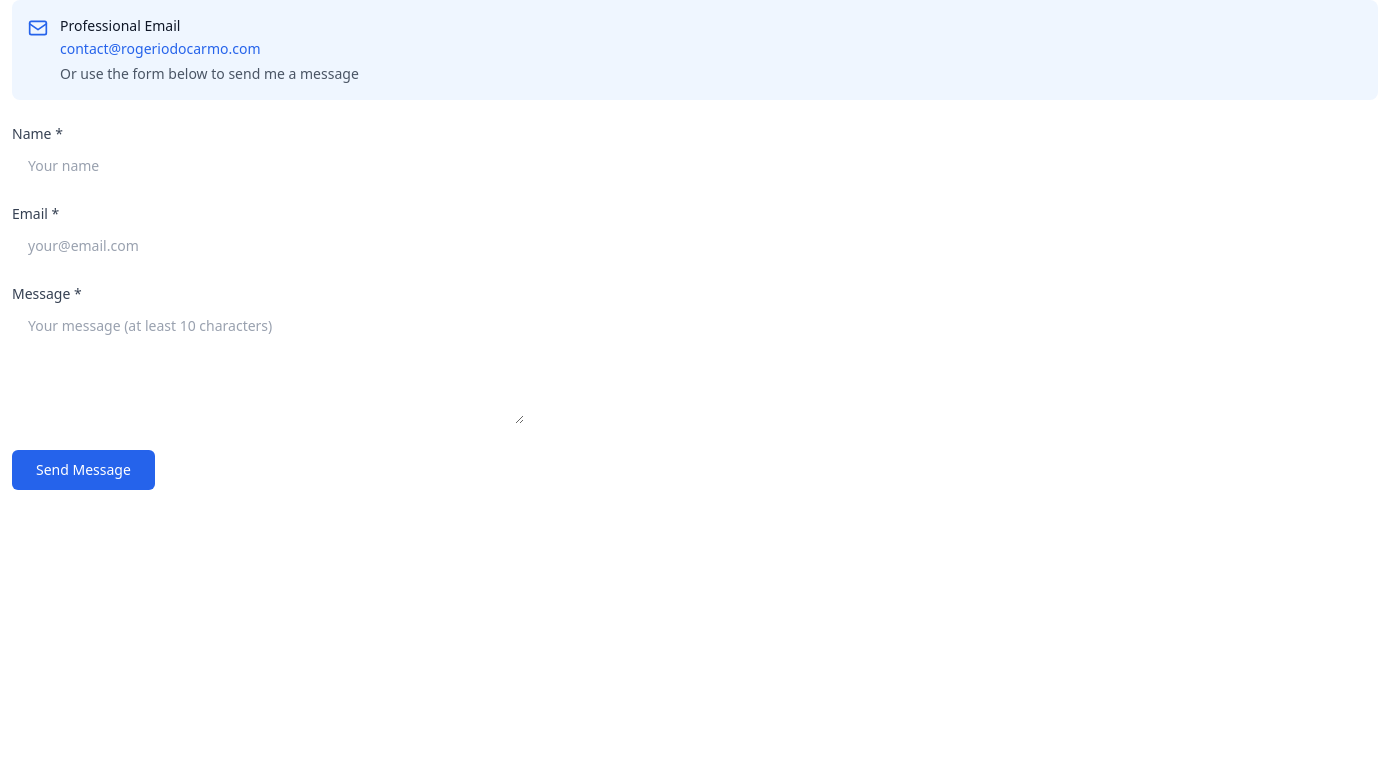
it: ContactForm Component › shows validation error when name is empty on submit
Click the button "Send Message".
click(83, 470)  # box [12,450,155,490]
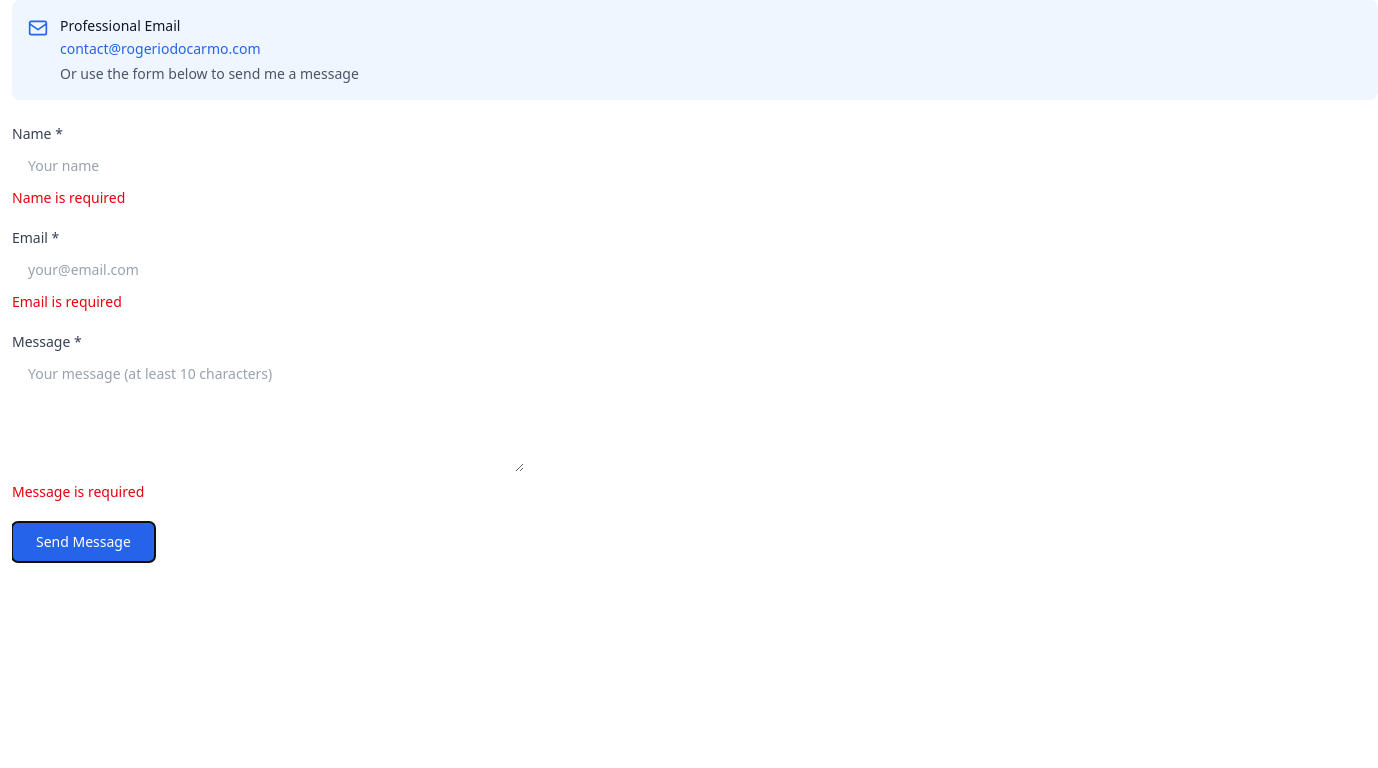
Expected: the text "Name is required" is shown, [12,188,125,207]
